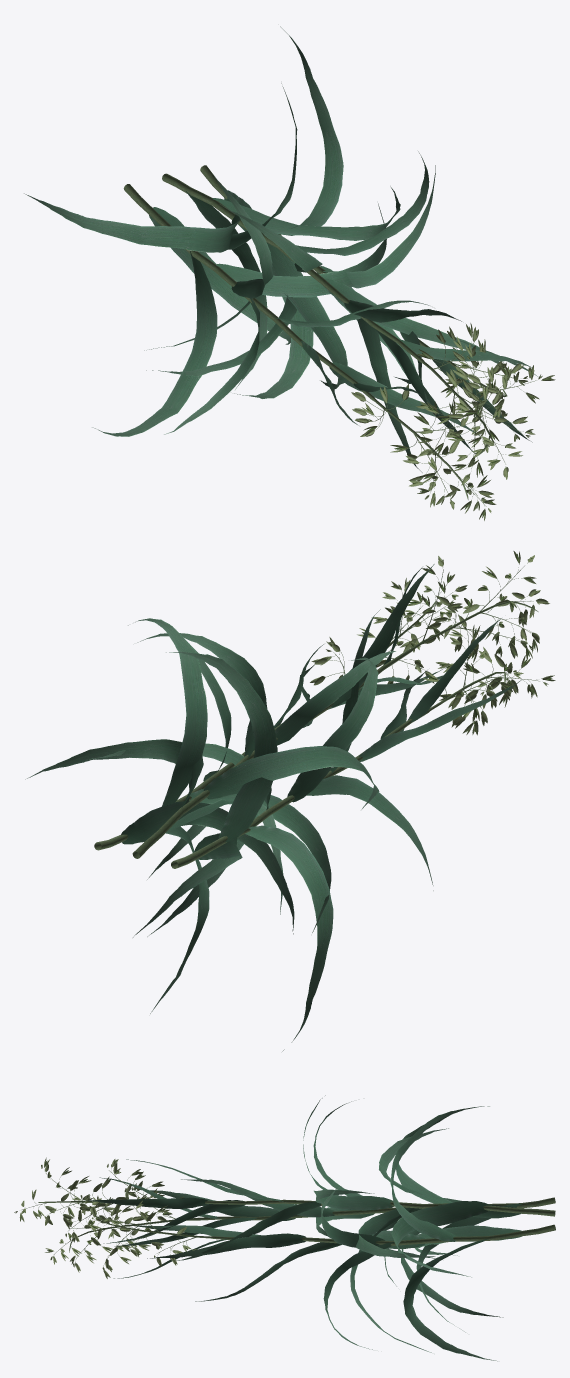
File: oat_grass_5.obj
3 views of the same model, one above another, from view 1: azimuth 30°, elevation 25°; view 2: azimuth 150°, elevation 25°; view 3: azimuth 270°, elevation 25° (orthographic). The views are drawn at different scales.
Visible parts, largest first — view 1: AG01_5; view 2: AG01_5; view 3: AG01_5.
Boxes of the visible parts, left/top/right/bottom form: AG01_5: left=24, top=26, right=555, bottom=520; AG01_5: left=25, top=551, right=555, bottom=1051; AG01_5: left=14, top=1095, right=555, bottom=1361.
Size of the model in its own units: 0.535 by 0.5442 by 0.9693.
Materials: 4 (4 with a texture image).
